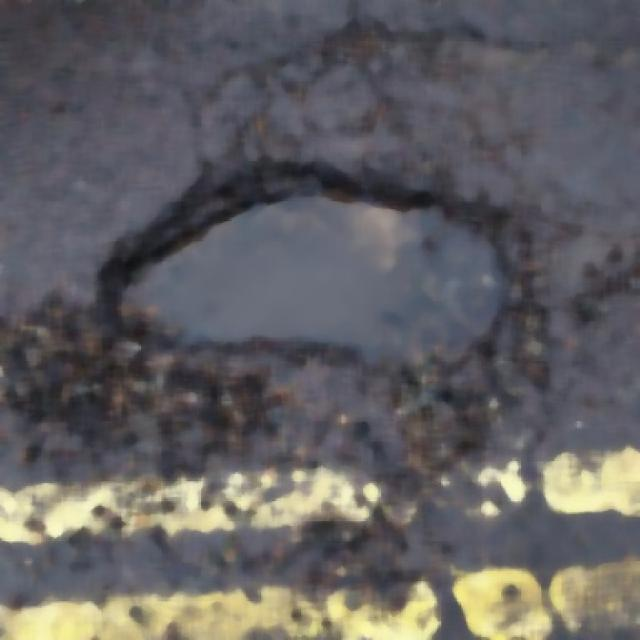Pothole: (116, 172, 536, 350)
